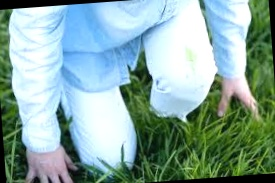earth: (184, 44, 200, 77)
